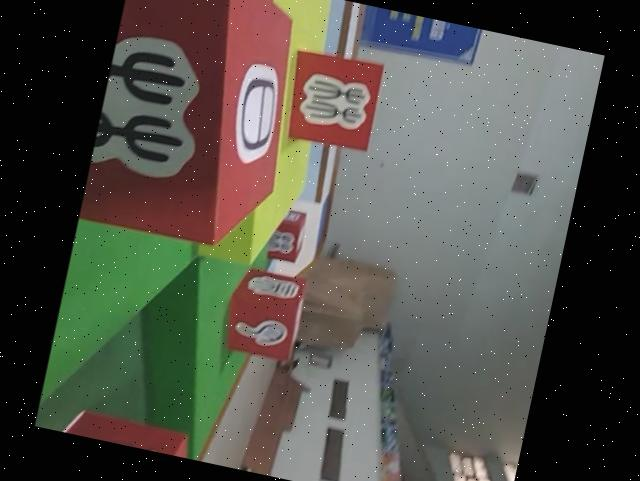R2 Fake: (78, 0, 320, 258), (277, 43, 389, 156), (34, 397, 204, 461), (219, 262, 313, 366)
